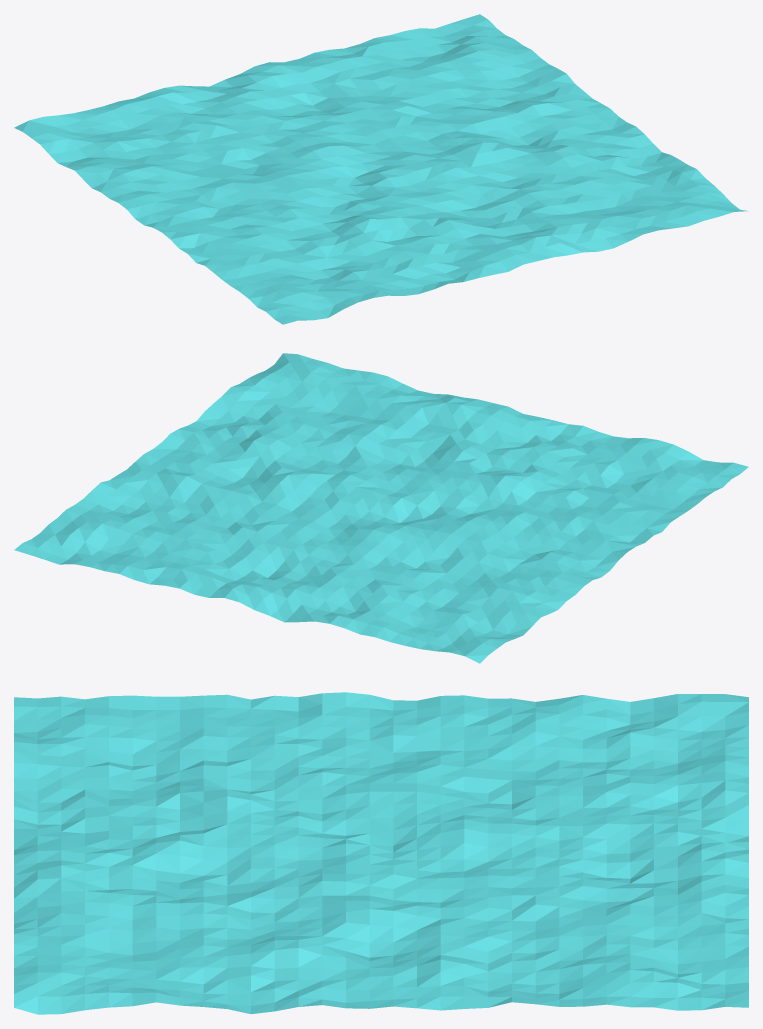
Rendered from water.fbx.
3 renders of one model, top to bottom at view 1: azimuth 30°, elevation 25°; view 2: azimuth 150°, elevation 25°; view 3: azimuth 270°, elevation 25°, orthographic. The views are drawn at different scales.
Visible parts, largest first — view 1: Plane; view 2: Plane; view 3: Plane.
Part boxes in pixels (x1,y1,x2,y2): Plane: (14,14,747,324); Plane: (14,353,748,663); Plane: (14,692,748,1014).
Bounding box in the file's own units: 1714 × 60.41 × 1714.
